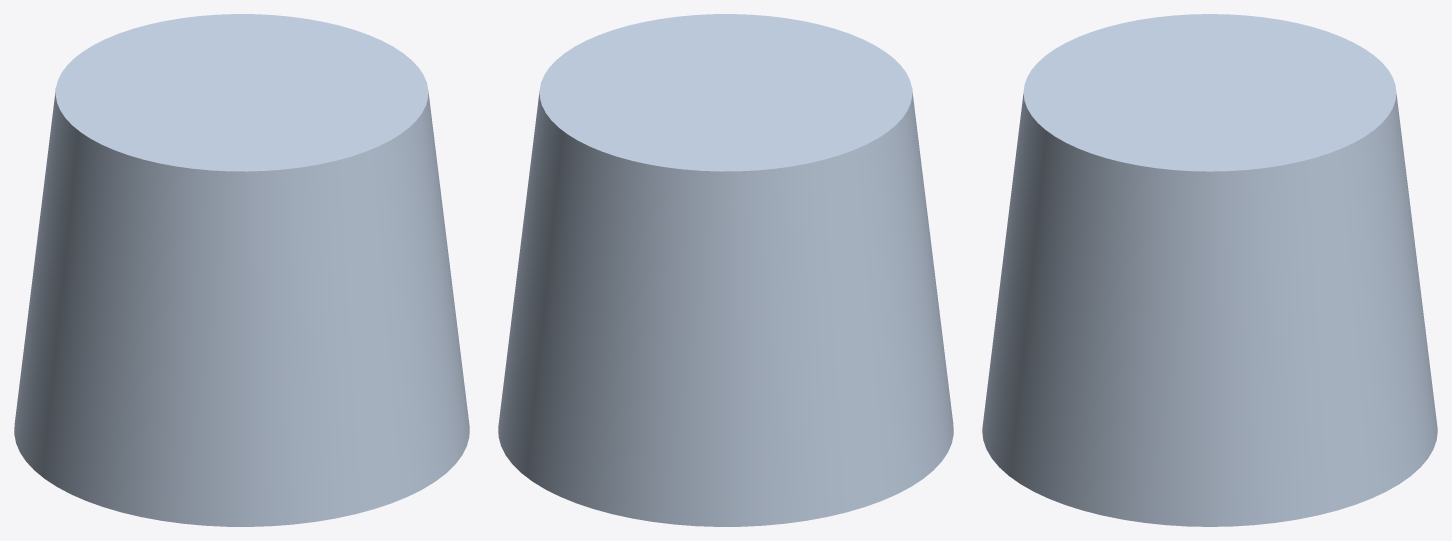
The model's file is dab_pillar.glb.
The picture shows the model from 3 angles, left to right: view 1: azimuth 30°, elevation 25°; view 2: azimuth 150°, elevation 25°; view 3: azimuth 270°, elevation 25°; orthographic projection.
Parts seen in each view (by area): view 1: Pillar; view 2: Pillar; view 3: Pillar.
Part boxes in pixels (<box>): Pillar: <box>14,14,469,526</box>; Pillar: <box>498,14,953,526</box>; Pillar: <box>982,14,1437,526</box>.
Bounding box in the file's own units: 0.44 × 0.36 × 0.44.
